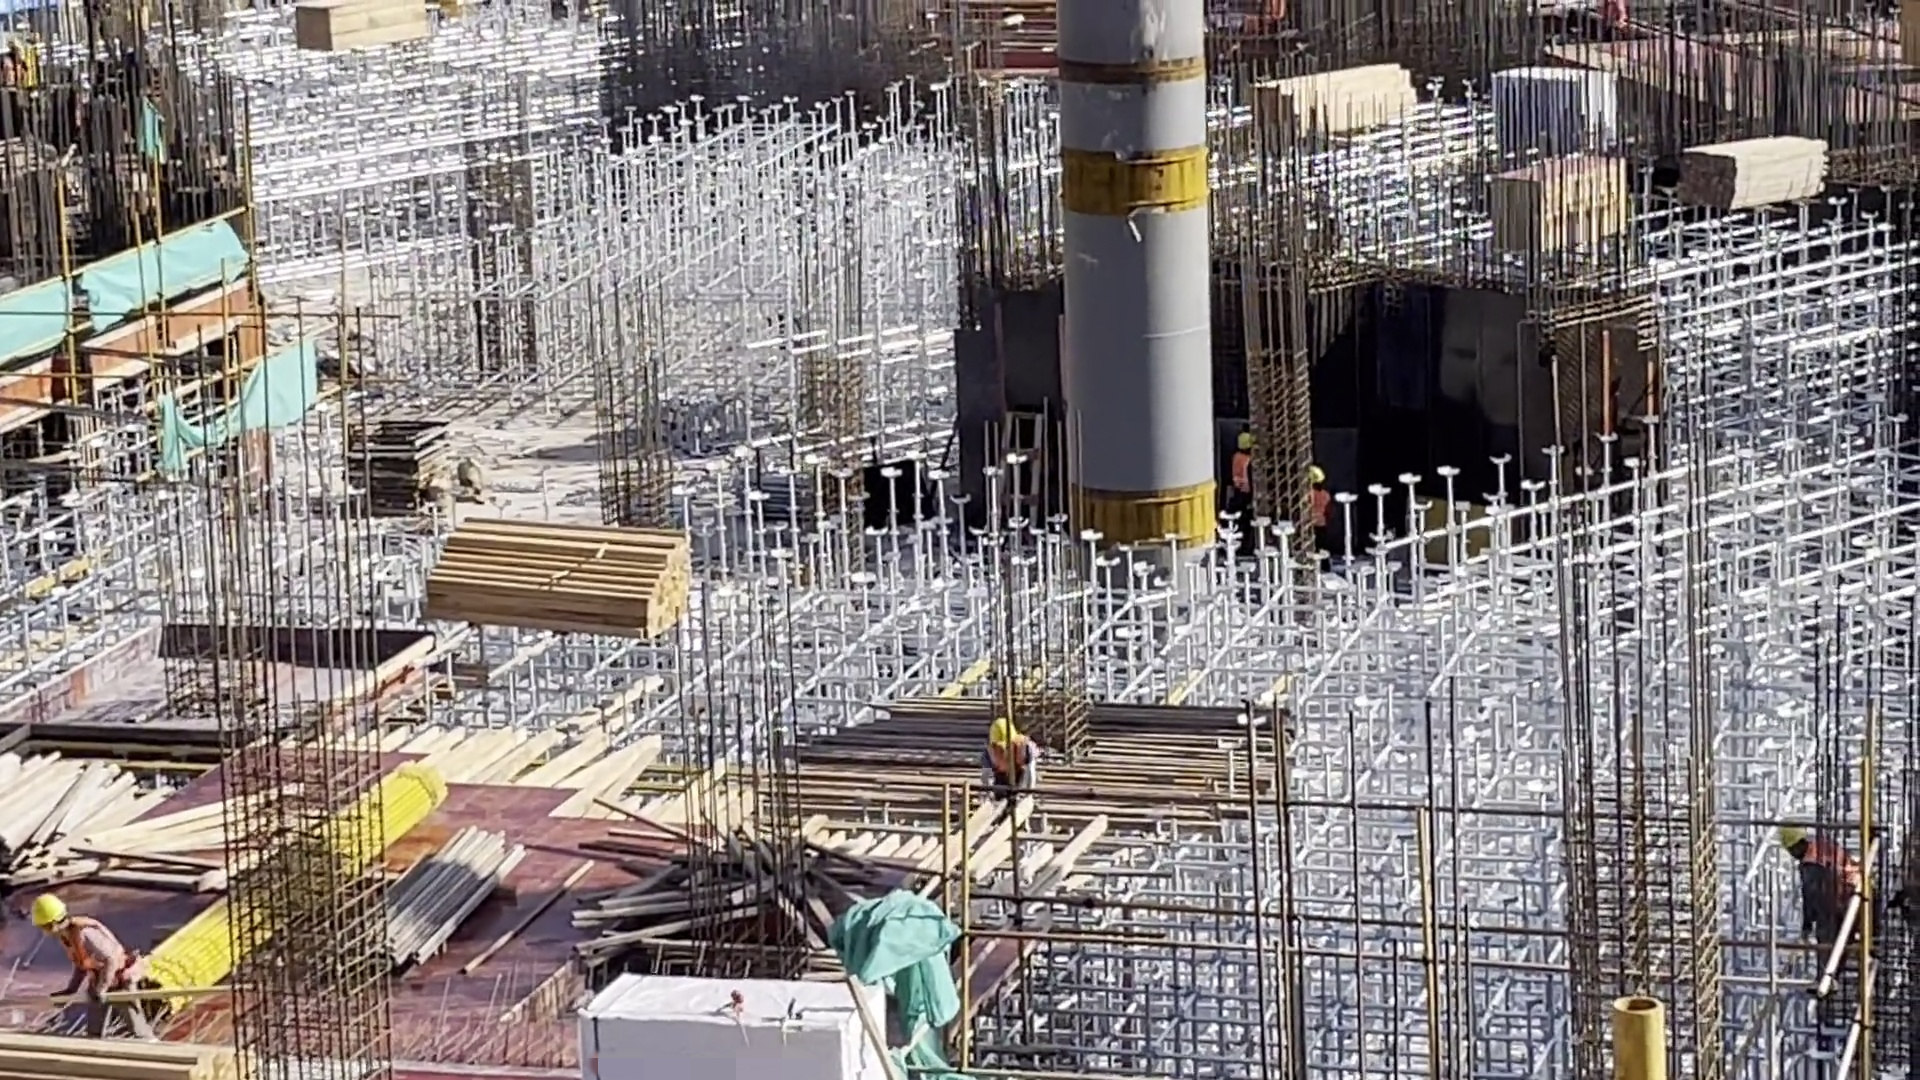board: (350, 418, 487, 527)
helmet: (33, 896, 71, 936), (987, 717, 1022, 752), (1235, 431, 1258, 461), (1305, 467, 1325, 488)
person: (33, 881, 156, 1059), (976, 706, 1048, 847), (1230, 419, 1273, 544), (1295, 456, 1344, 563)
vest: (59, 916, 128, 996), (984, 740, 1040, 799), (1231, 450, 1258, 500), (1307, 485, 1332, 531)
wood: (425, 516, 700, 648), (1, 759, 179, 890), (1681, 121, 1831, 219), (1244, 64, 1430, 142), (1, 1035, 277, 1080)
